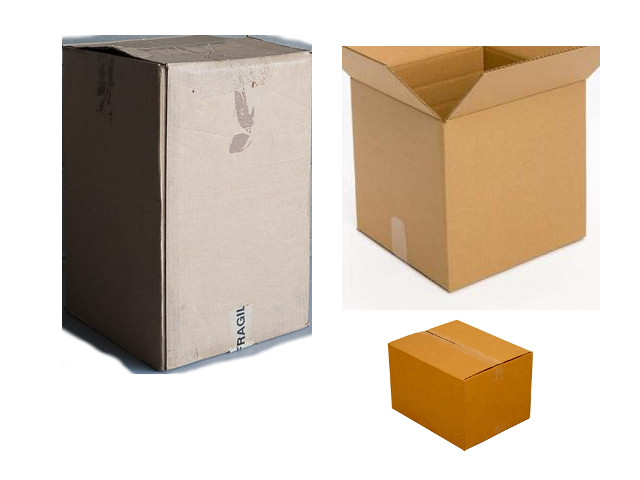cardboard: (61, 39, 310, 373), (353, 45, 587, 294), (388, 319, 532, 448)
